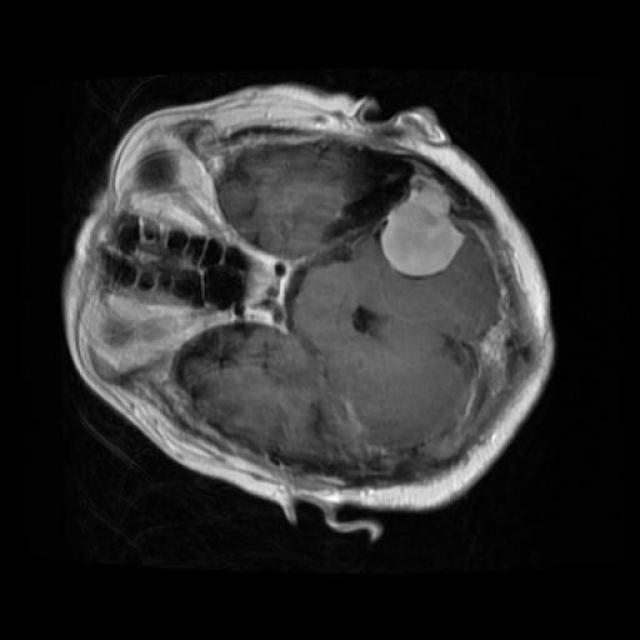Meningioma: (381, 174, 464, 277)
